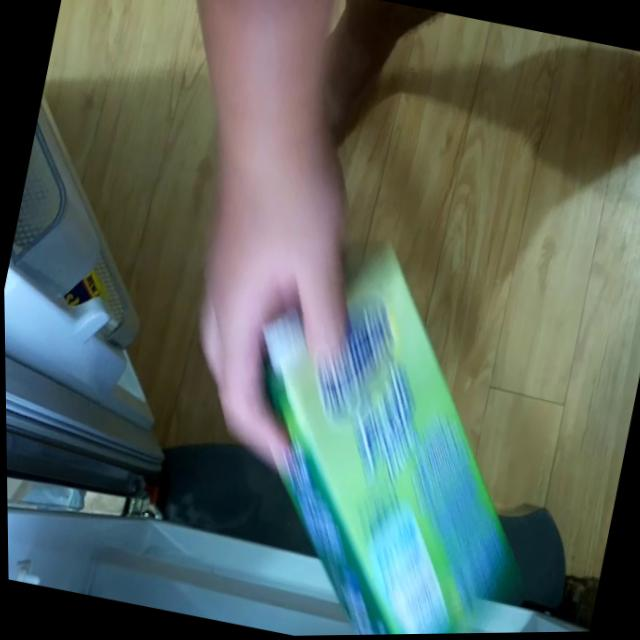milk: (202, 219, 579, 638)
